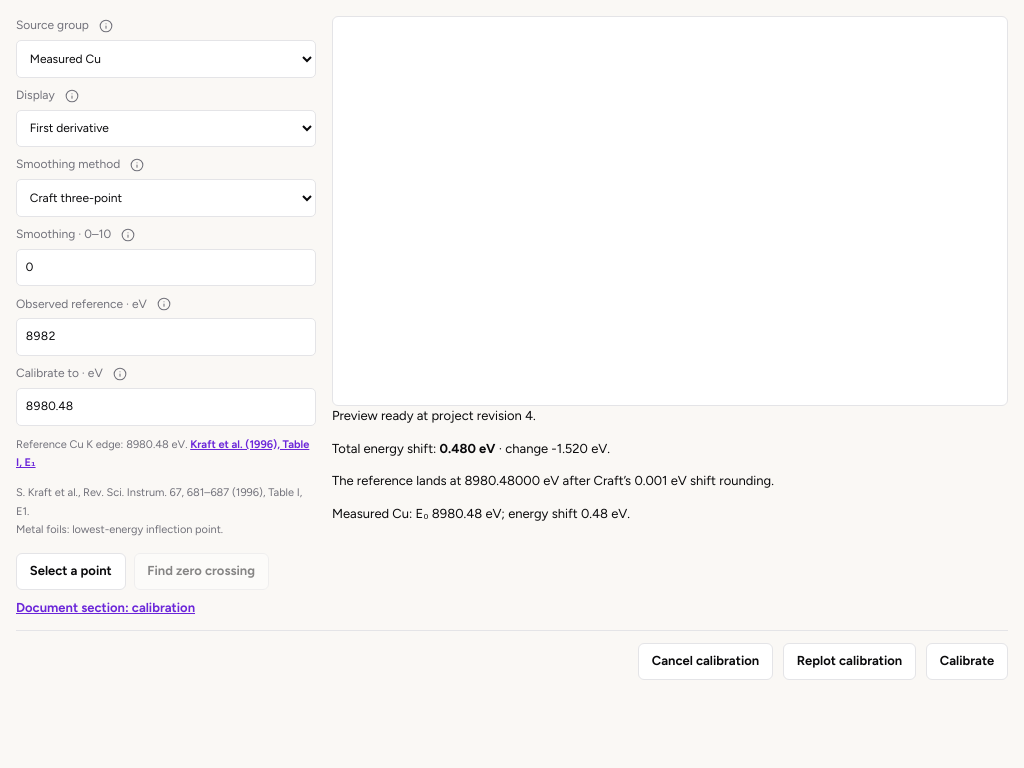
Test: shows requested/effective fit endpoints and plots the refitted calibrated normalization
The width and height of the screenshot is (1024, 768).
Check: the button "Calibrate" is enabled, box 926,643 -> 1008,680
Select "Normalized μ(E)" in the dropdown named "Calibration display" at (166, 128), box 16,110 -> 316,147
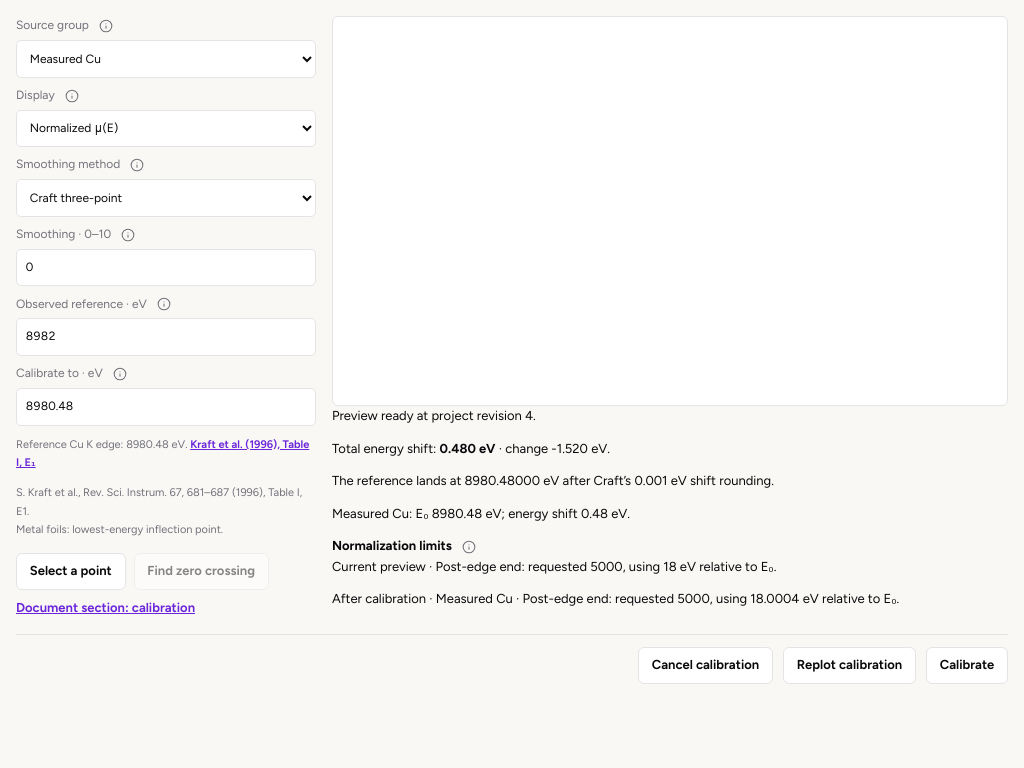
Check: the button "Calibrate" is enabled, box 926,647 -> 1008,684
Check: the element named "Normalization fit limits" shows "requested 5000, using 18 eV", box 332,538 -> 899,606
Check: the element named "Normalization fit limits" shows "After calibration · Measured Cu", box 332,538 -> 899,606
